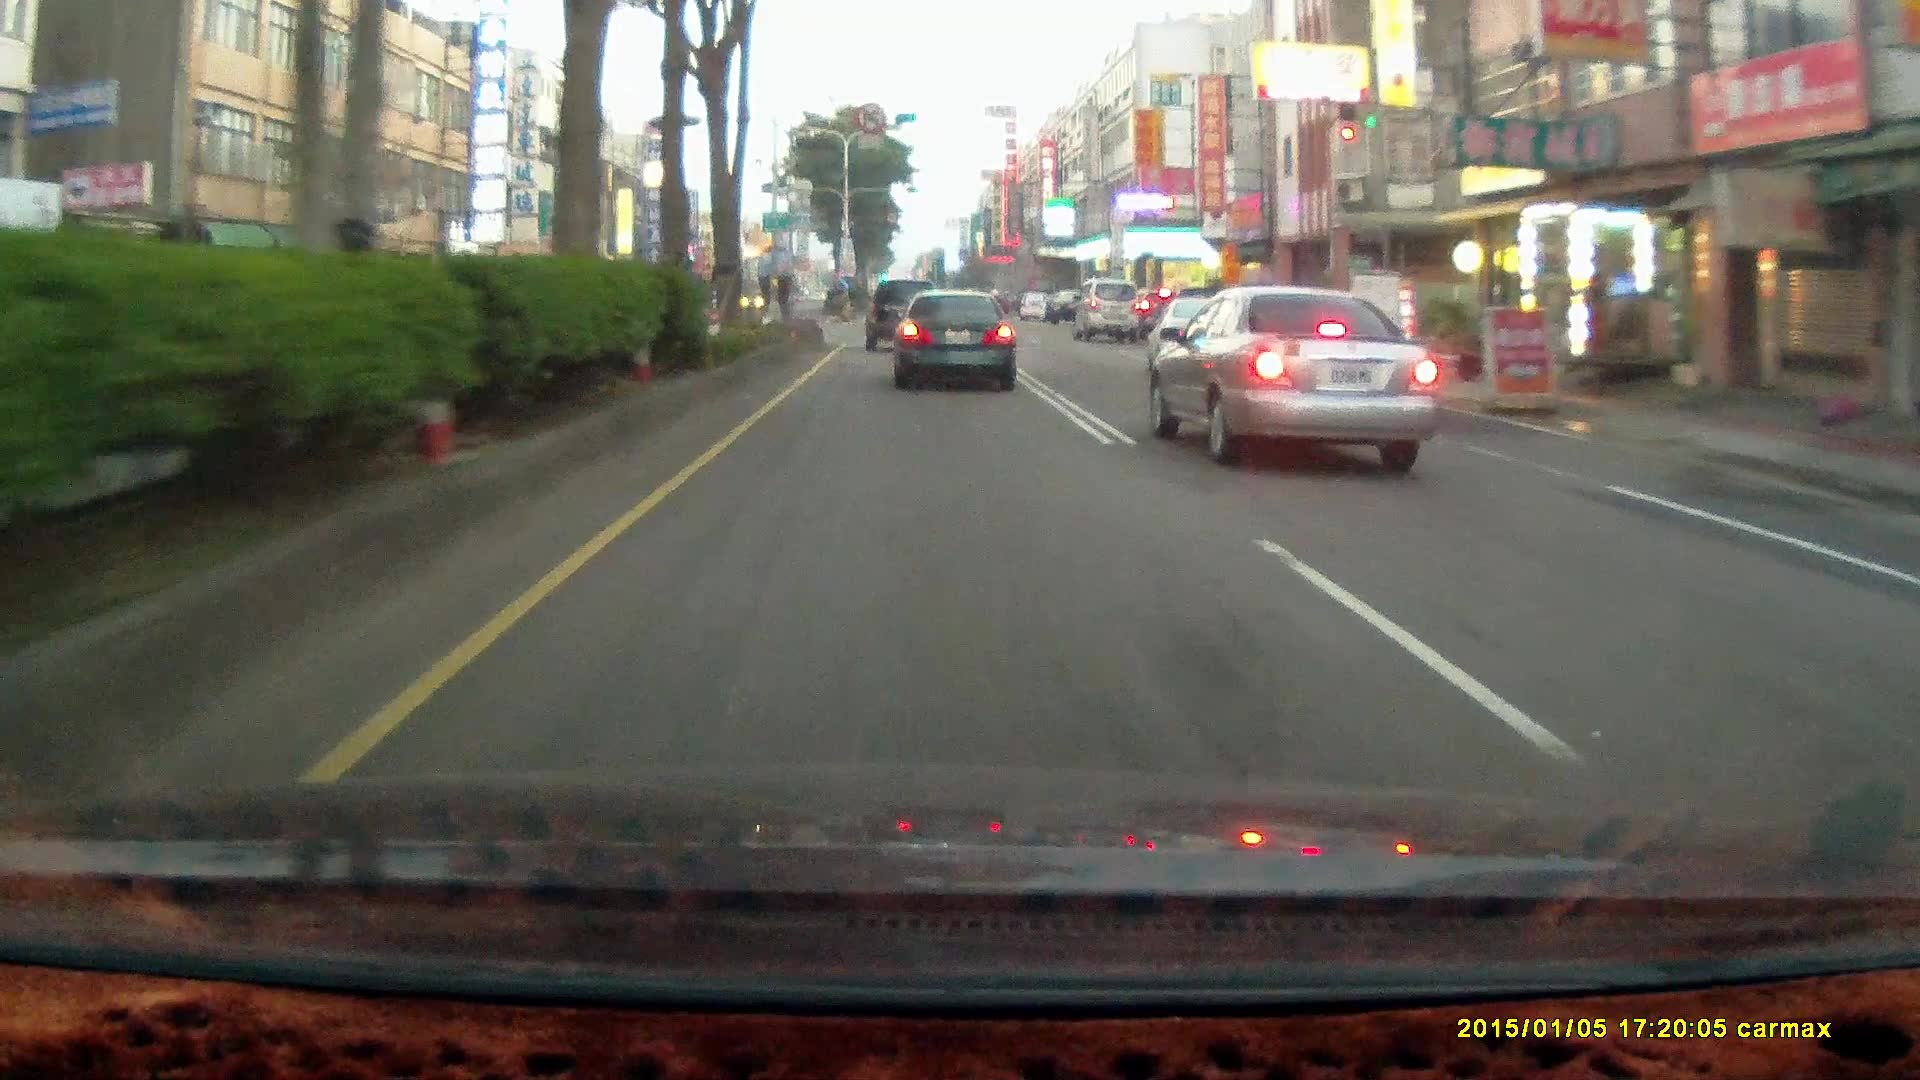vehicle: (1150, 286, 1441, 463), (891, 287, 1021, 396), (891, 287, 1013, 390), (864, 278, 944, 355), (862, 282, 940, 355), (1071, 276, 1142, 342), (1073, 280, 1145, 344), (1044, 287, 1095, 324), (1021, 290, 1048, 316)
